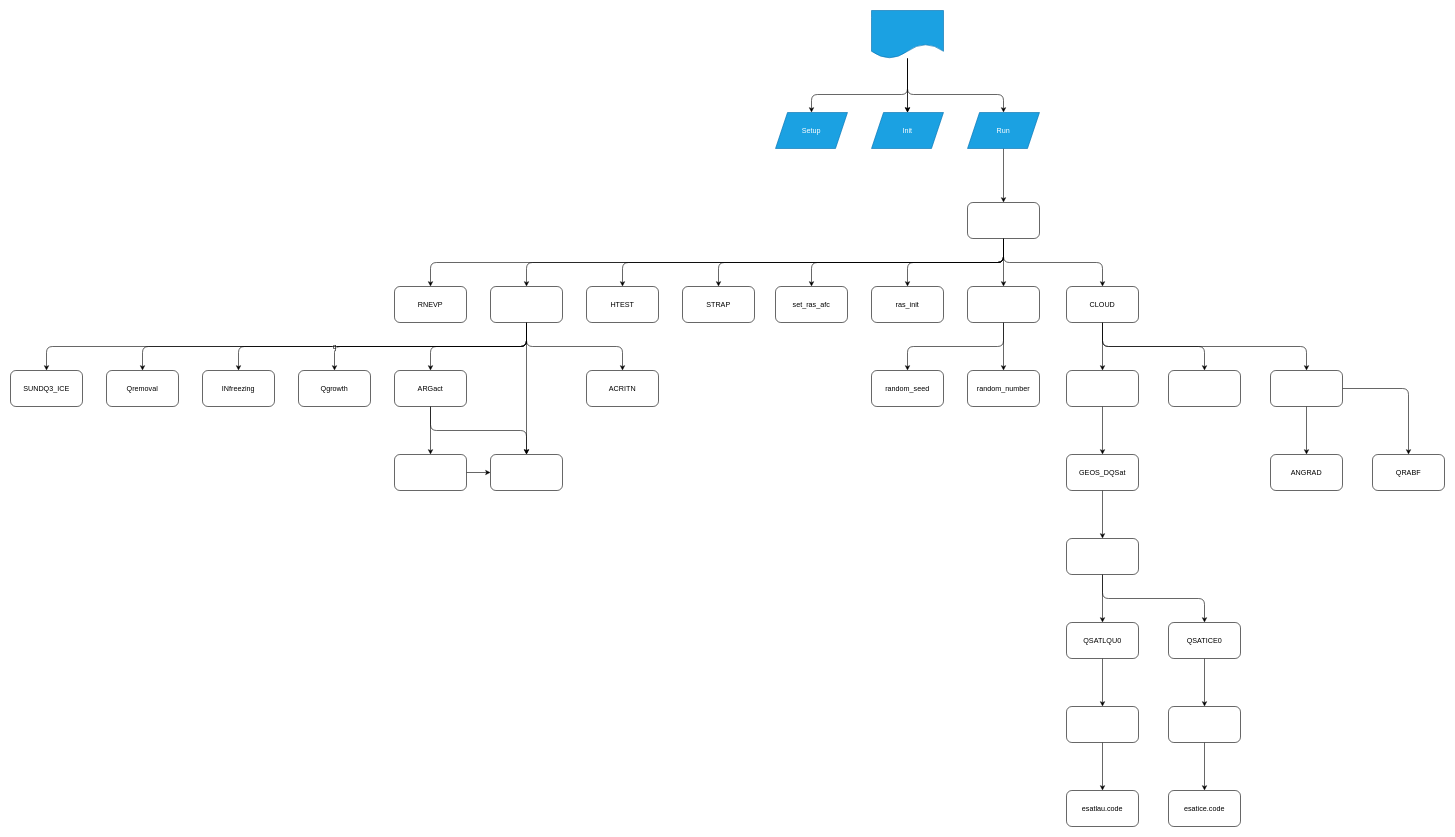
The diagram is 1455 pixels wide and 837 high, and some of its shapes have lost their labels. Each missing label, with the centre of its shape:
"CLOUDE" belongs at point (526, 304).
"CRTWRK" belongs at point (1204, 388).
"DDRFT" belongs at point (1306, 388).
"ESINIT" belongs at point (1102, 556).
"FINDDTLS" belongs at point (1003, 304).
"getINsubset" belongs at point (430, 472).
"init_Aer" belongs at point (526, 472).
"QSATCN" belongs at point (1102, 388).
"qsatice.code" belongs at point (1204, 724).
"qsatlau.code" belongs at point (1102, 724).
"RAS" belongs at point (907, 34).
"RASE" belongs at point (1003, 220).
